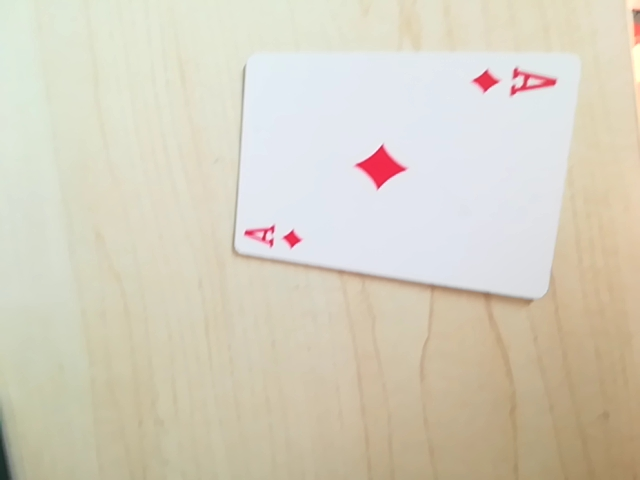fk a: (472, 60, 559, 104), (239, 217, 310, 259)
